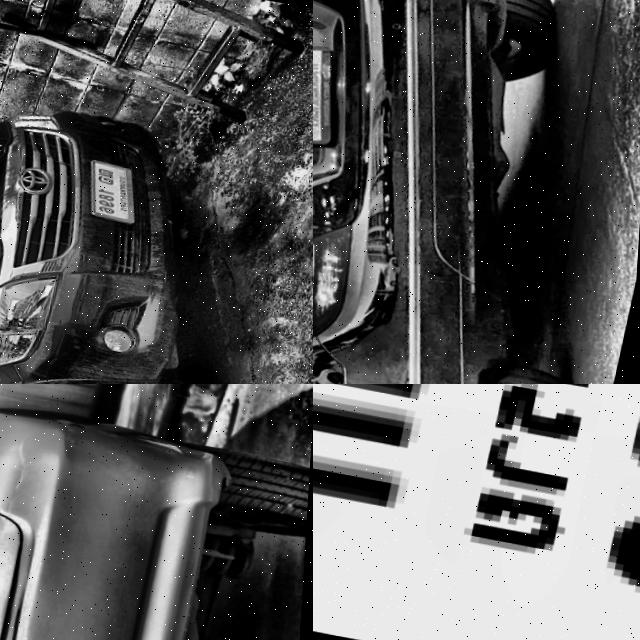license-plate: (313, 384, 640, 640), (79, 155, 151, 226), (313, 38, 348, 152)
